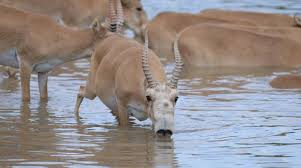saiga: (69, 31, 185, 149)
